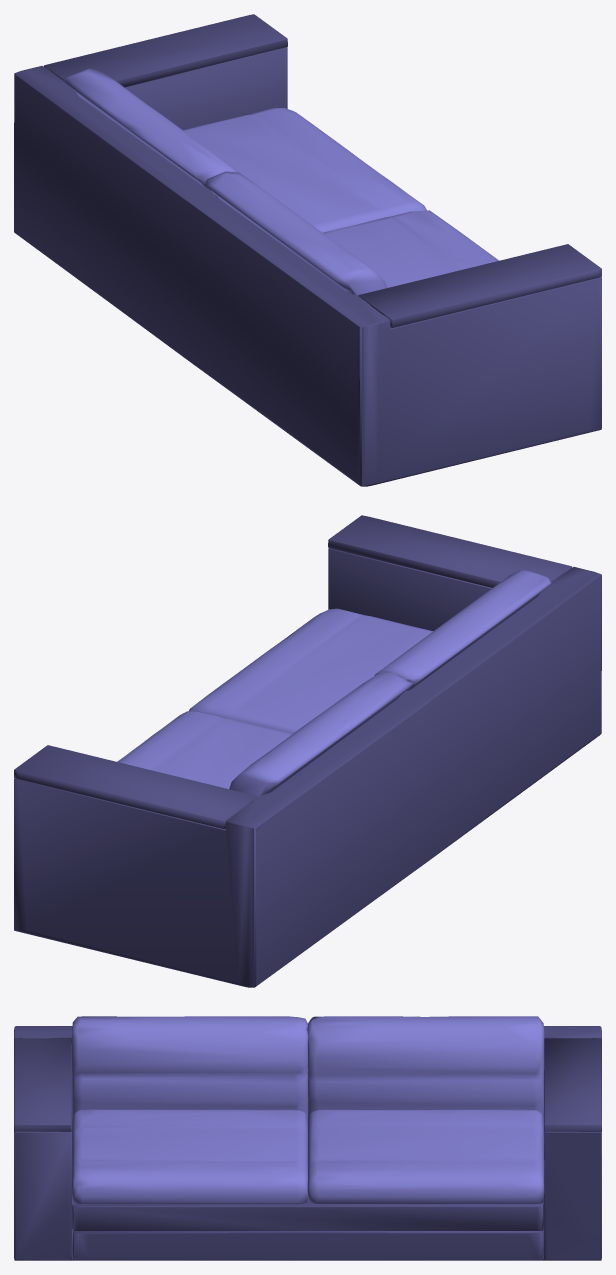
Rendered from sofa.glb.
The picture shows the model from 3 angles, top to bottom: view 1: azimuth 30°, elevation 25°; view 2: azimuth 150°, elevation 25°; view 3: azimuth 270°, elevation 25°; orthographic projection. The views are drawn at different scales.
Visible parts, largest first — view 1: 000_Cube, 002_Cube.002, 001_Cube.001; view 2: 000_Cube, 002_Cube.002, 001_Cube.001; view 3: 000_Cube, 002_Cube.002, 001_Cube.001.
Part boxes in pixels (bbox=[...]): 000_Cube: bbox=[14, 14, 601, 486]; 002_Cube.002: bbox=[183, 108, 498, 287]; 001_Cube.001: bbox=[64, 68, 387, 295]; 000_Cube: bbox=[14, 515, 601, 987]; 002_Cube.002: bbox=[117, 608, 432, 788]; 001_Cube.001: bbox=[229, 570, 551, 796]; 000_Cube: bbox=[14, 1026, 601, 1260]; 002_Cube.002: bbox=[71, 1109, 544, 1204]; 001_Cube.001: bbox=[72, 1016, 544, 1118].
Size of the model in its own units: 76.61 by 54.22 by 187.
